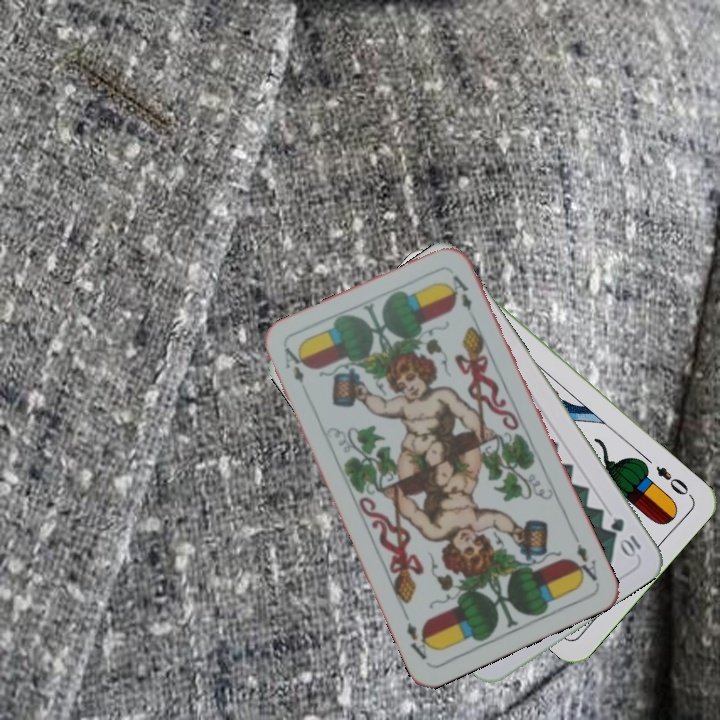EA: (568, 530, 601, 586), (280, 343, 307, 386)
EO: (651, 461, 695, 500)
G10: (606, 513, 644, 560)
